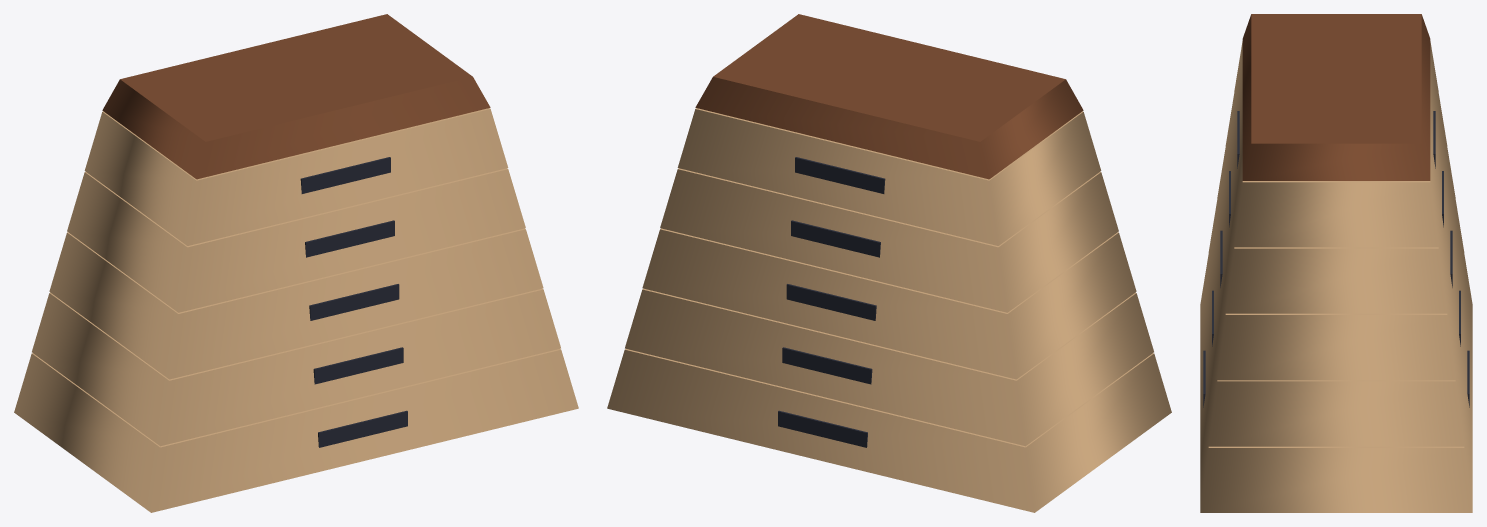
The model's file is sch-030.glb.
3 views of the same model, side by side, from view 1: azimuth 30°, elevation 25°; view 2: azimuth 150°, elevation 25°; view 3: azimuth 270°, elevation 25° (orthographic).
Visible parts, largest first — view 1: top_pad, section_1, section_2, section_3, section_4, section_5, handhole_3_2, handhole_2_2, handhole_5_2, handhole_1_2, handhole_4_2; view 2: top_pad, section_1, section_2, section_3, section_4, section_5, handhole_3_1, handhole_2_1, handhole_5_1, handhole_1_1, handhole_4_1; view 3: top_pad, section_1, section_2, section_3, section_4, section_5.
Part boxes in pixels (x1,y1,x2,y2): top_pad: (102, 14, 490, 179); section_1: (14, 349, 578, 512); section_2: (32, 288, 560, 446); section_3: (49, 228, 543, 379); section_4: (67, 168, 525, 312); section_5: (84, 108, 508, 245); handhole_3_2: (309, 284, 399, 320); handhole_2_2: (313, 347, 403, 384); handhole_5_2: (300, 157, 390, 193); handhole_1_2: (318, 410, 407, 447); handhole_4_2: (305, 220, 394, 257); top_pad: (695, 14, 1083, 179); section_1: (607, 349, 1171, 512); section_2: (625, 288, 1153, 446); section_3: (642, 228, 1136, 379); section_4: (660, 168, 1118, 312); section_5: (677, 108, 1101, 245); handhole_3_1: (786, 284, 876, 320); handhole_2_1: (782, 347, 872, 384); handhole_5_1: (795, 157, 885, 193); handhole_1_1: (778, 410, 867, 447); handhole_4_1: (791, 220, 880, 257); top_pad: (1242, 14, 1430, 180); section_1: (1200, 255, 1472, 512); section_2: (1208, 200, 1464, 446); section_3: (1217, 148, 1455, 380); section_4: (1225, 94, 1447, 313); section_5: (1234, 41, 1438, 247).
Bounding box in the file's own units: 1.44 × 1.07 × 0.8.
